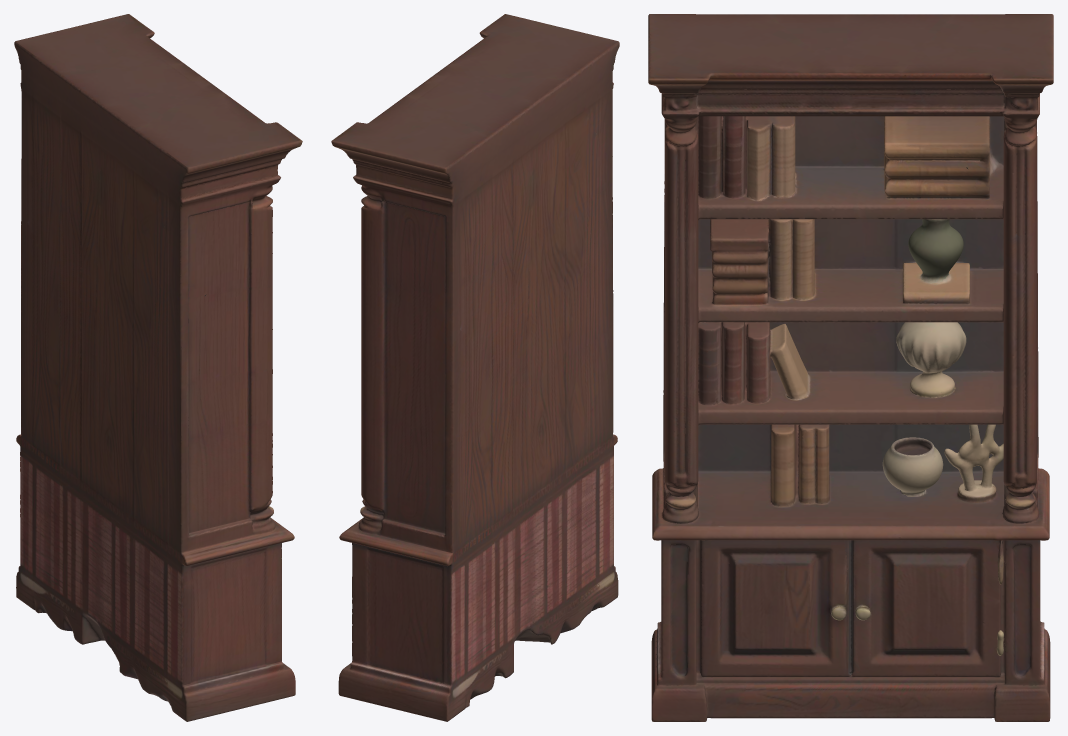
File: detailed_realistic_model_antiquebookshelf_12.glb
The picture shows the model from 3 angles, left to right: view 1: azimuth 30°, elevation 25°; view 2: azimuth 150°, elevation 25°; view 3: azimuth 270°, elevation 25°; orthographic projection. The views are drawn at different scales.
Parts seen in each view (by area): view 1: tripo_node_ac237dc9-144a-44f6-b59b-b27be60395a0; view 2: tripo_node_ac237dc9-144a-44f6-b59b-b27be60395a0; view 3: tripo_node_ac237dc9-144a-44f6-b59b-b27be60395a0.
Part boxes in pixels (x1=…): tripo_node_ac237dc9-144a-44f6-b59b-b27be60395a0: x1=14, y1=14, x2=302, y2=721; tripo_node_ac237dc9-144a-44f6-b59b-b27be60395a0: x1=331, y1=14, x2=619, y2=721; tripo_node_ac237dc9-144a-44f6-b59b-b27be60395a0: x1=648, y1=14, x2=1053, y2=721.
Bounding box in the file's own units: 0.2175 × 1 × 0.5678.
1 material, 1 textured.
